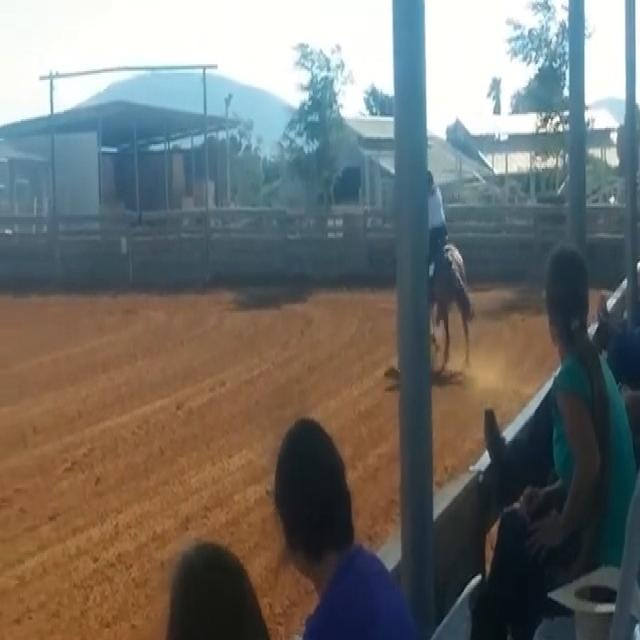horse: (426, 238, 475, 379)
